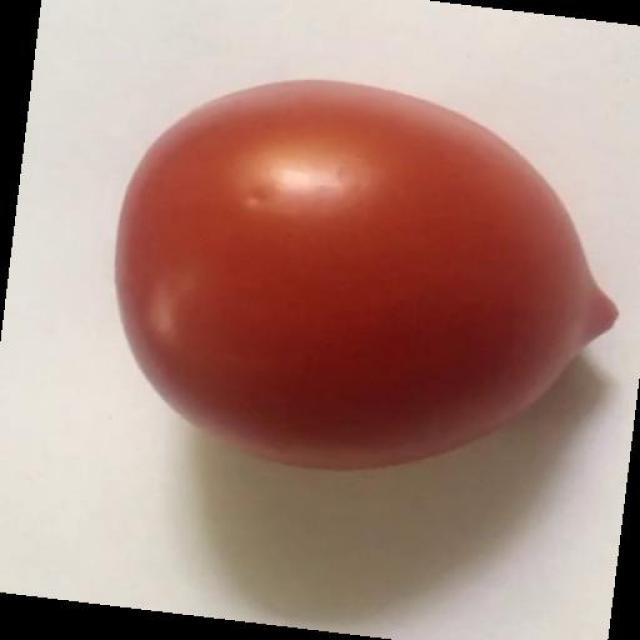Fresh Tomato: (98, 58, 614, 490)
